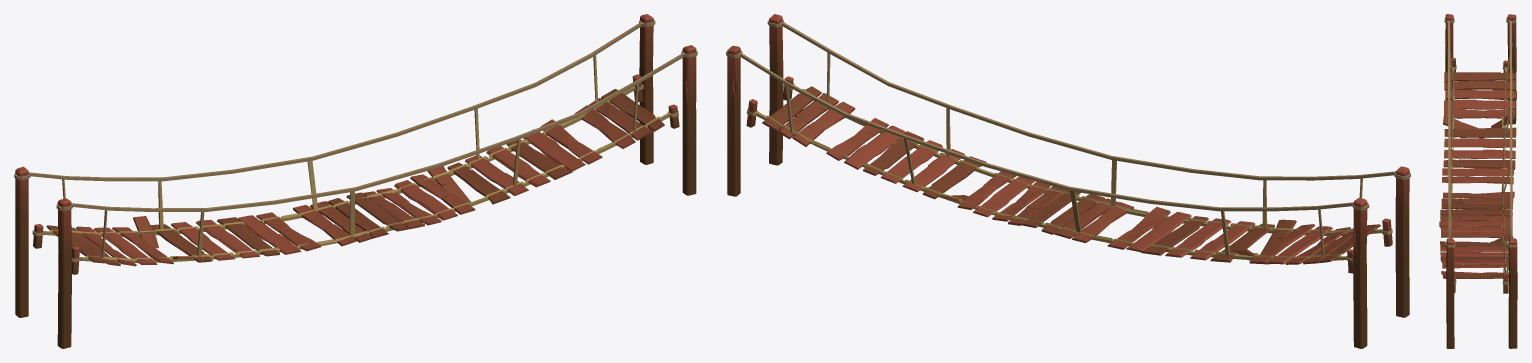
The model's file is hangingbridgelong.glb.
3 renders of one model, left to right at view 1: azimuth 30°, elevation 25°; view 2: azimuth 150°, elevation 25°; view 3: azimuth 270°, elevation 25°, orthographic. The views are drawn at different scales.
Parts seen in each view (by area): view 1: HangingBridgeLong_mesh1; view 2: HangingBridgeLong_mesh1; view 3: HangingBridgeLong_mesh1.
Boxes of the visible parts, bbox=[...] form: HangingBridgeLong_mesh1: bbox=[14, 14, 697, 348]; HangingBridgeLong_mesh1: bbox=[726, 14, 1410, 348]; HangingBridgeLong_mesh1: bbox=[1439, 14, 1517, 348].
Bounding box in the file's own units: 17.52 × 3.84 × 2.53.
Materials: 1 (1 with a texture image).
